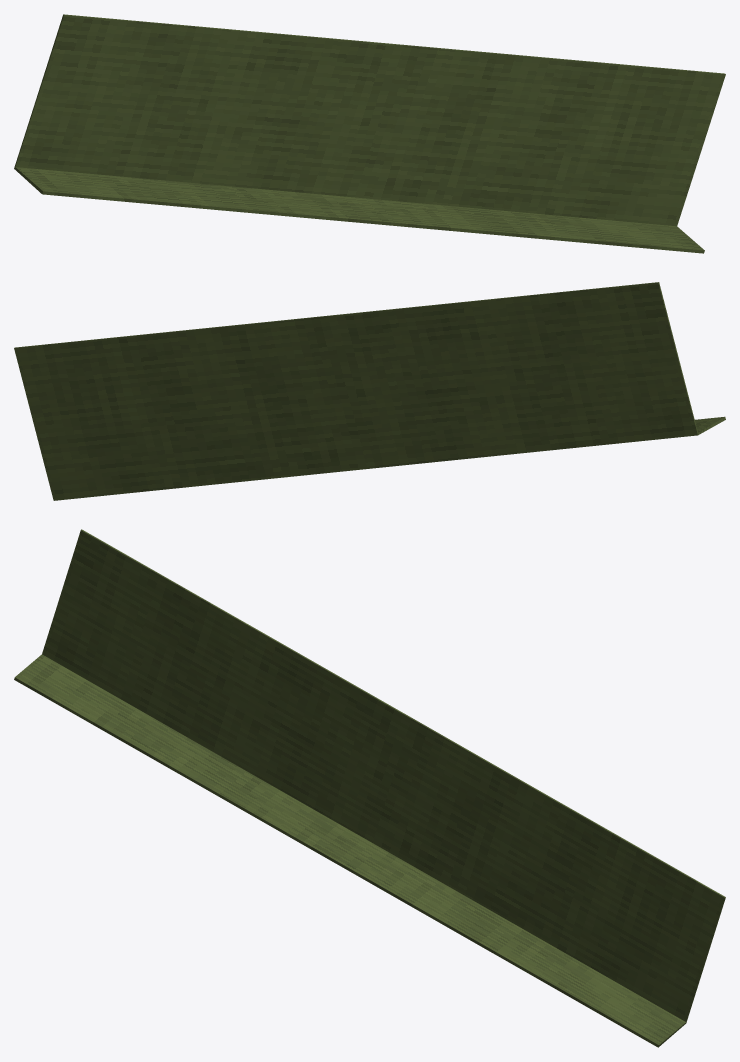
Rendered from pack_roll.glb.
3 views of the same model, one above another, from view 1: azimuth 30°, elevation 25°; view 2: azimuth 150°, elevation 25°; view 3: azimuth 330°, elevation 25° (orthographic). The views are drawn at different scales.
Visible parts, largest first — view 1: pack_roll; view 2: pack_roll; view 3: pack_roll.
Boxes of the visible parts, <box> form: pack_roll: <box>14,14,725,253</box>; pack_roll: <box>14,282,725,500</box>; pack_roll: <box>14,529,725,1047</box>.
Bounding box in the file's own units: 0.769 × 0.3884 × 0.0657.
1 material, 1 textured.
